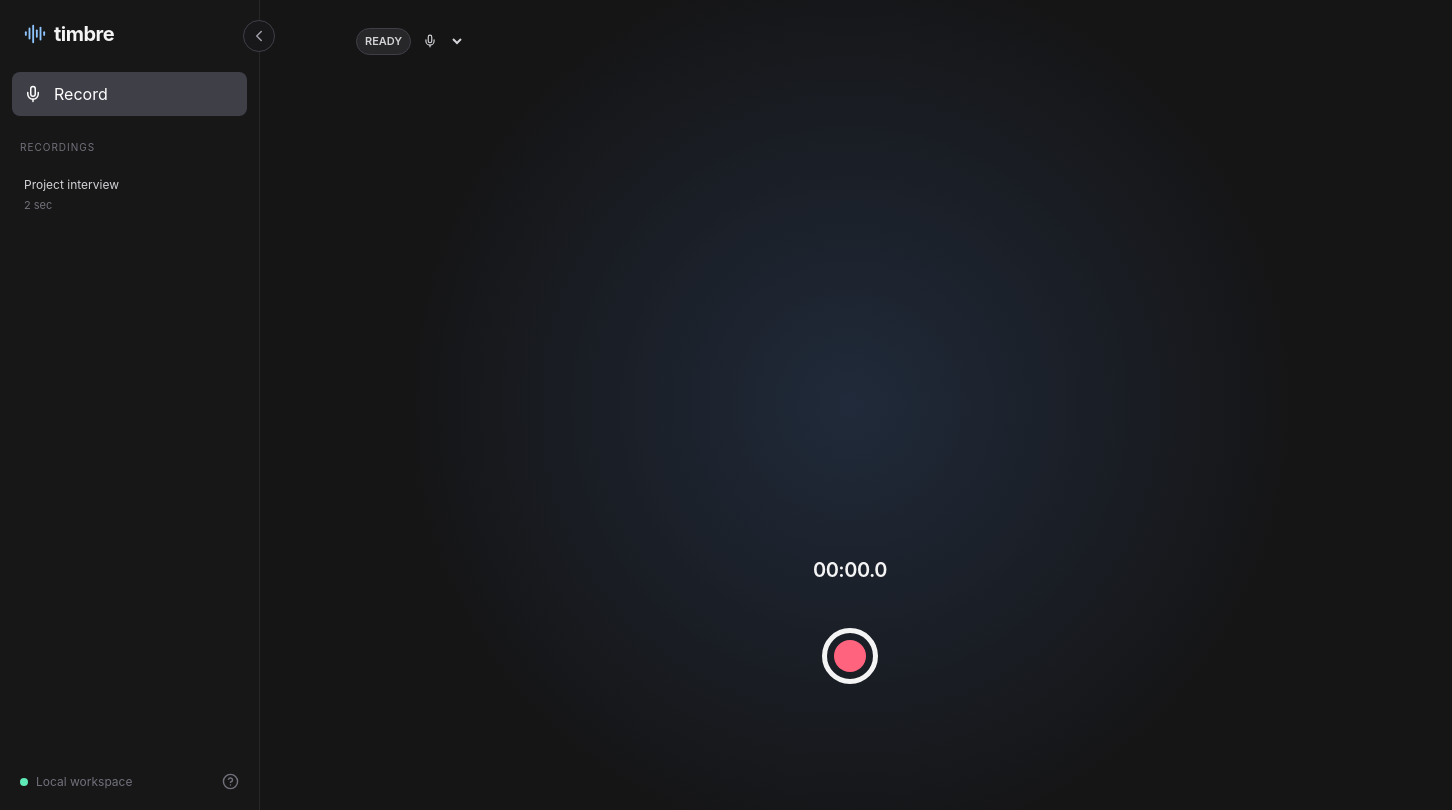
Test: App › opens a selected sidebar recording without starting playback
Click the button "Project interview 2 sec" at (130, 195), box [12,167,247,224]
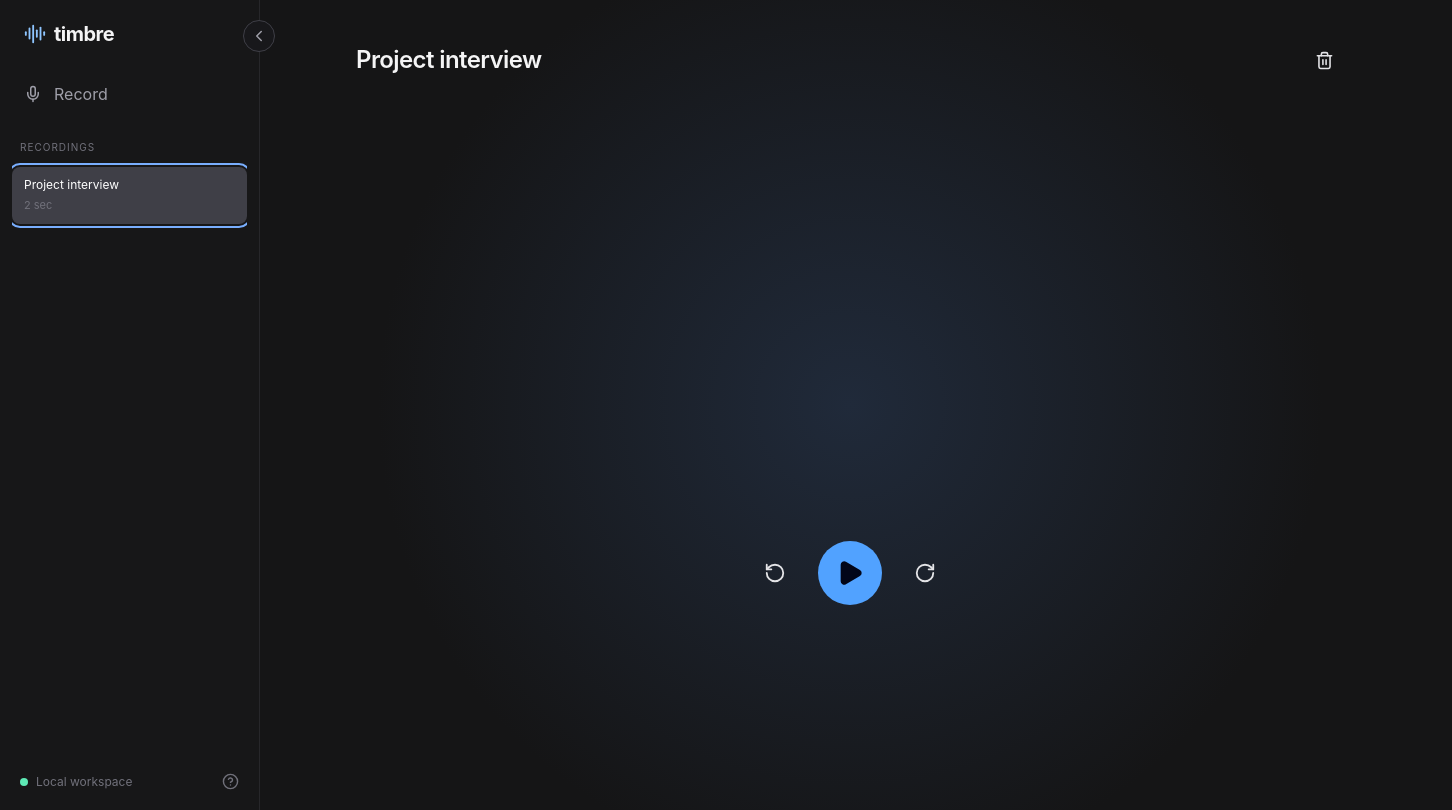
Now the field named "Recording name" reads "Project interview", box [356,44,542,76]
Now the button named "Play recording" is shown, box [818,541,882,605]
